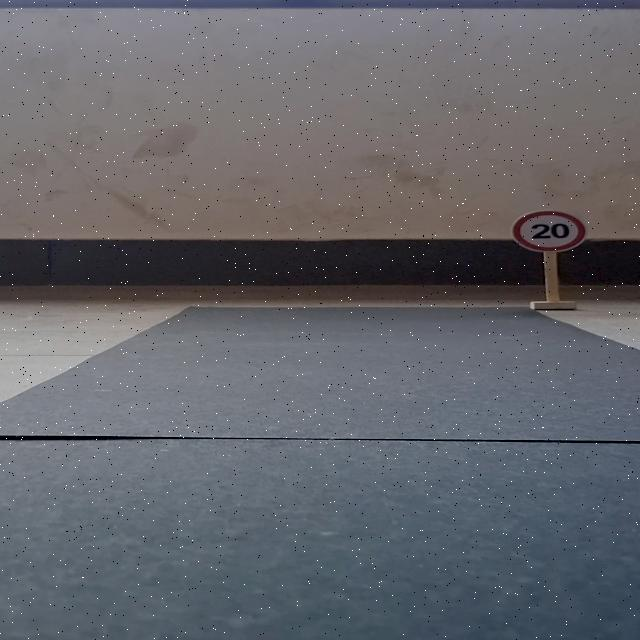Speed20: (508, 206, 594, 256)
